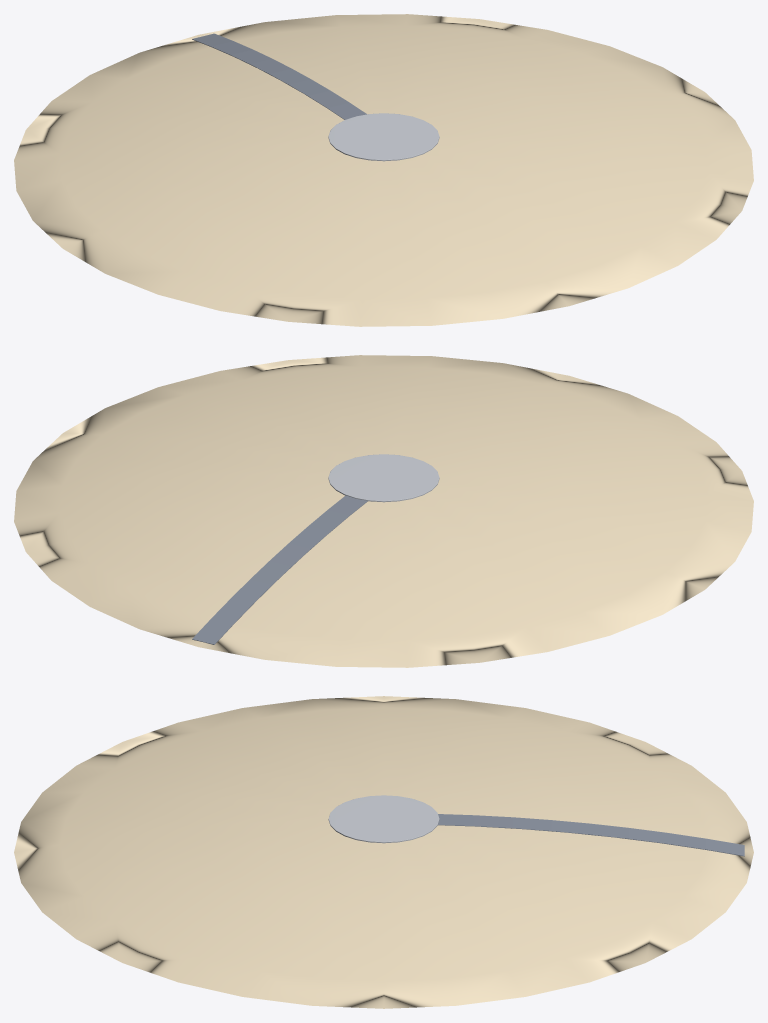
File: Scene_Ground.glb
3 views of the same model, one above another, from view 1: azimuth 30°, elevation 25°; view 2: azimuth 150°, elevation 25°; view 3: azimuth 270°, elevation 25° (orthographic).
Parts seen in each view (by area): view 1: Scene_Ground.Land, Scene_Ground.Hardstand, Scene_Ground.Road; view 2: Scene_Ground.Land, Scene_Ground.Road, Scene_Ground.Hardstand; view 3: Scene_Ground.Land, Scene_Ground.Hardstand, Scene_Ground.Road.
Boxes of the visible parts, left/top/right/bottom form: Scene_Ground.Land: left=14, top=14, right=753, bottom=326; Scene_Ground.Hardstand: left=328, top=113, right=439, bottom=161; Scene_Ground.Road: left=192, top=33, right=366, bottom=119; Scene_Ground.Land: left=14, top=355, right=753, bottom=667; Scene_Ground.Road: left=192, top=495, right=367, bottom=644; Scene_Ground.Hardstand: left=328, top=454, right=439, bottom=502; Scene_Ground.Land: left=14, top=696, right=753, bottom=1008; Scene_Ground.Hardstand: left=328, top=795, right=439, bottom=843; Scene_Ground.Road: left=438, top=814, right=744, bottom=856.
Bounding box in the file's own units: 800 × 40.3 × 800.
Materials: 1 (1 with a texture image).
